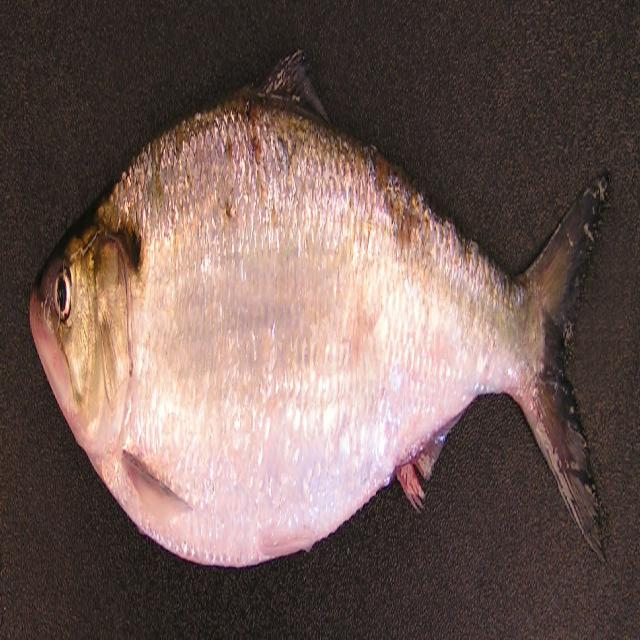Shad - American: (30, 53, 606, 565)
